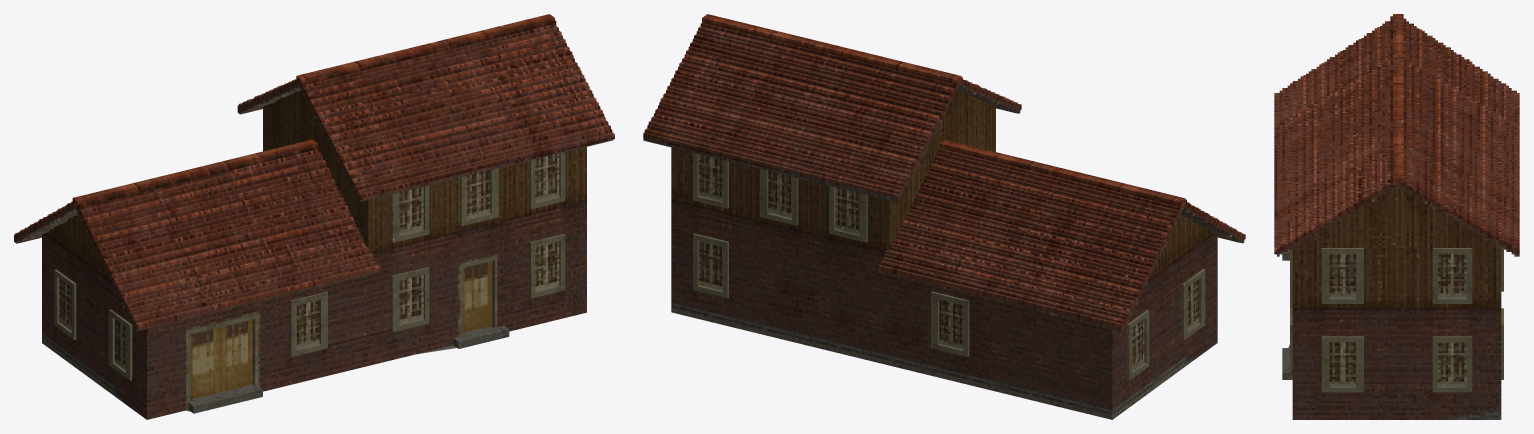
File: House2.fbx
The picture shows the model from 3 angles, left to right: view 1: azimuth 30°, elevation 25°; view 2: azimuth 150°, elevation 25°; view 3: azimuth 270°, elevation 25°; orthographic projection.
Parts seen in each view (by area): view 1: Untitled; view 2: Untitled; view 3: Untitled.
Boxes of the visible parts, x1,y1,x2,y2 form: Untitled: (14,14,614,419); Untitled: (643,14,1245,419); Untitled: (1274,14,1519,419).
Bounding box in the file's own units: 2070 × 1050 × 930.
